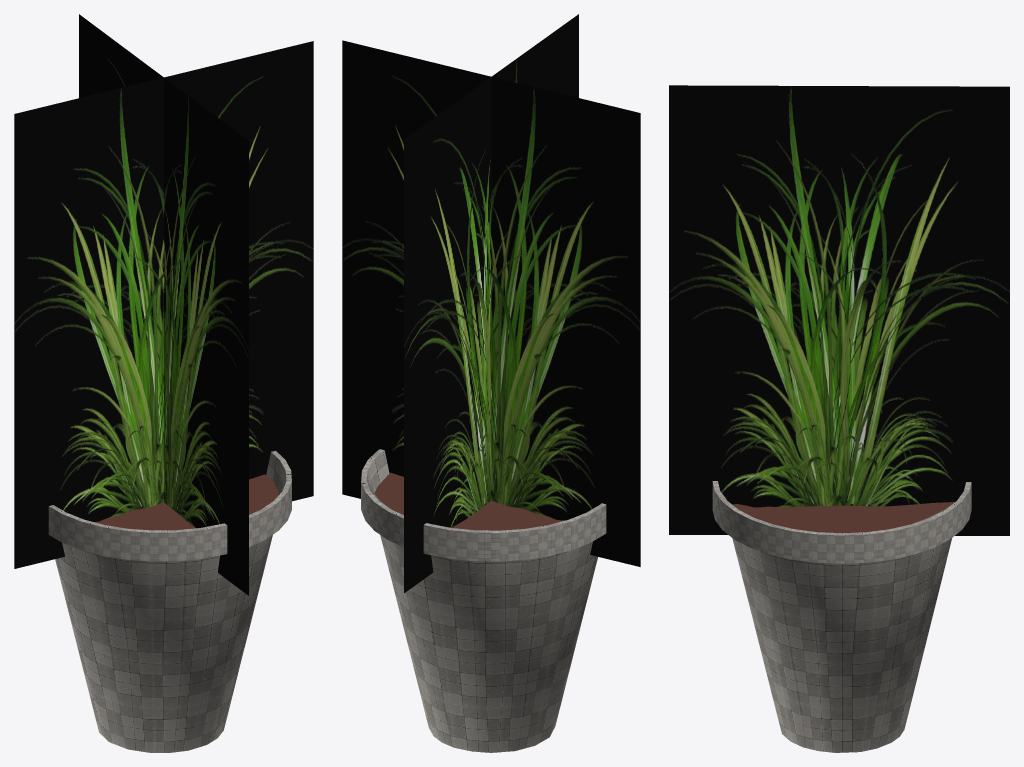
File: POT.fbx
3 renders of one model, left to right at view 1: azimuth 30°, elevation 25°; view 2: azimuth 150°, elevation 25°; view 3: azimuth 270°, elevation 25°, orthographic.
Parts seen in each view (by area): view 1: farm05, Cylinder.001; view 2: farm05, Cylinder.001; view 3: farm05, Cylinder.001.
Boxes of the visible parts, left/top/right/bottom form: farm05: left=14, top=14, right=313, bottom=595; Cylinder.001: left=48, top=450, right=291, bottom=752; farm05: left=342, top=14, right=640, bottom=593; Cylinder.001: left=361, top=449, right=606, bottom=752; farm05: left=669, top=85, right=1009, bottom=535; Cylinder.001: left=712, top=481, right=971, bottom=752.
Size of the model in its own units: 252 by 522 by 252.
